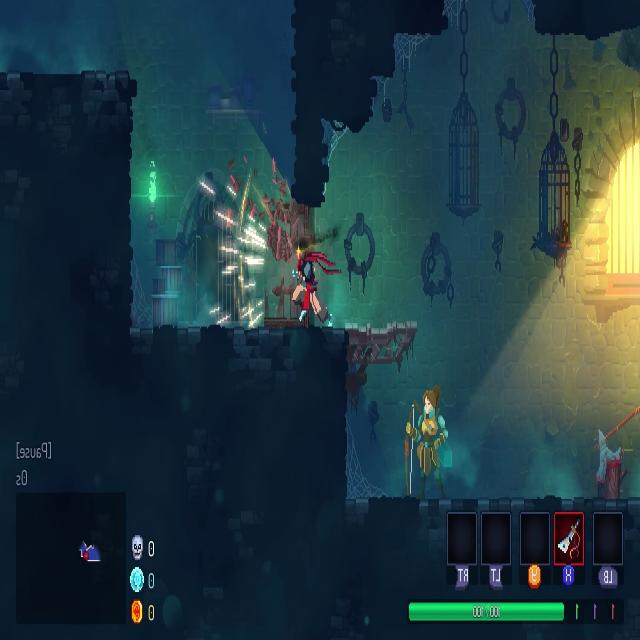agents: (290, 248, 332, 326)
